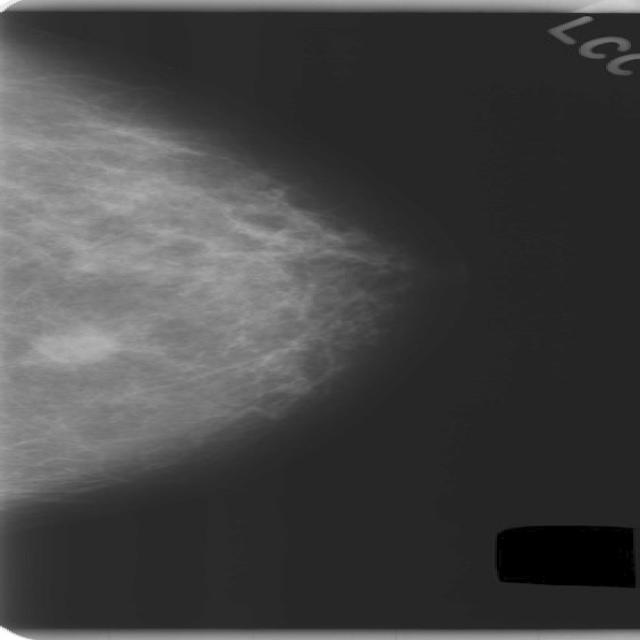tumour: (30, 329, 120, 364)
